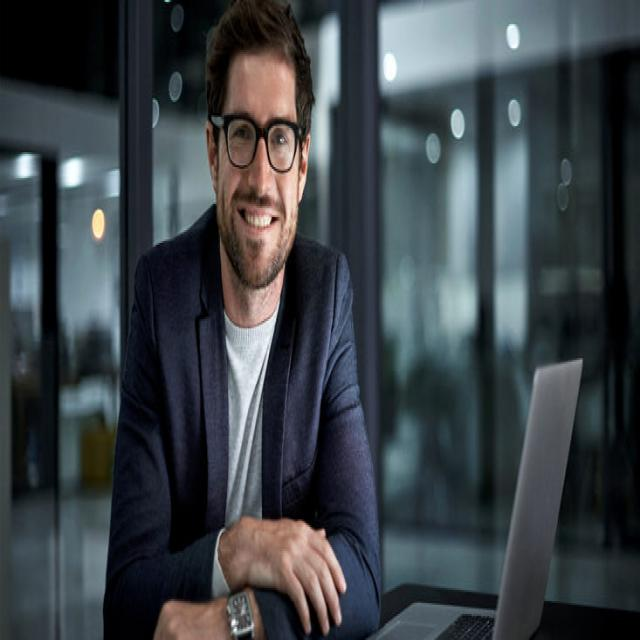Glasses: (214, 107, 303, 177)
